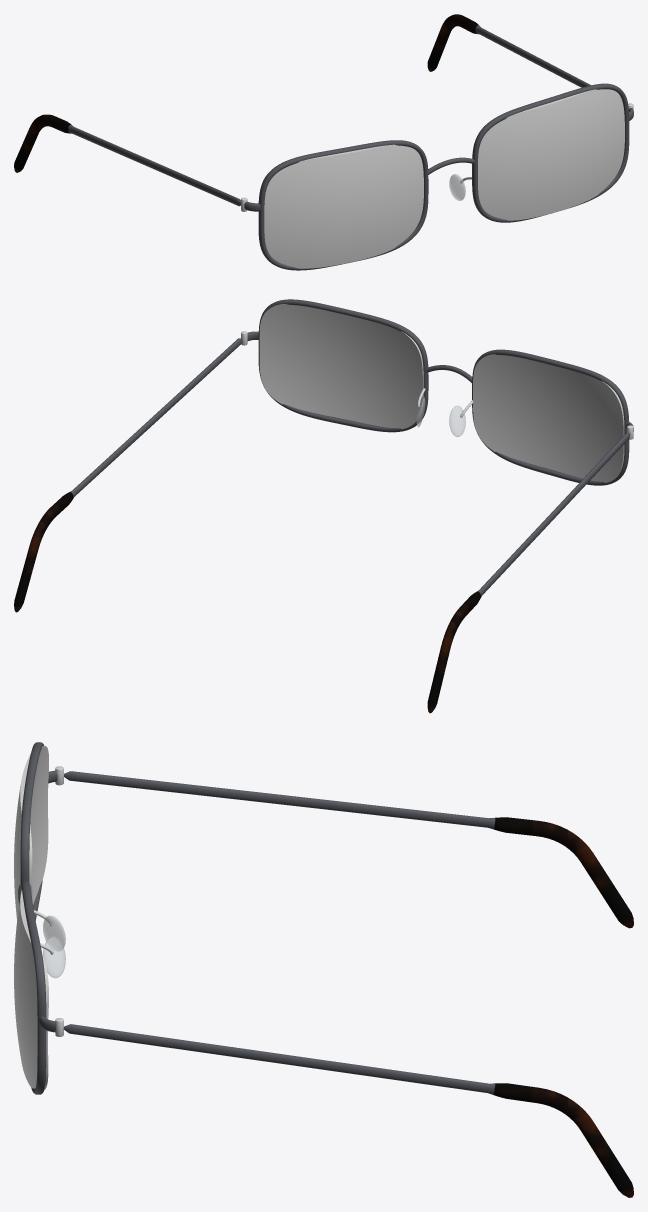
File: finn-l.glb
3 views of the same model, one above another, from view 1: azimuth 30°, elevation 25°; view 2: azimuth 150°, elevation 25°; view 3: azimuth 270°, elevation 25° (orthographic). The views are drawn at different scales.
Parts seen in each view (by area): view 1: Lens_R, Lens_L, Front, Temple_R, Temple_L; view 2: Lens_L, Lens_R, Front, Temple_L, Temple_R, NosePads; view 3: Temple_L, Temple_R, Front, Lens_L, Lens_R, NosePads.
Part boxes in pixels (bbox=[...]): Lens_R: bbox=[263, 144, 423, 268]; Lens_L: bbox=[478, 89, 624, 220]; Front: bbox=[241, 83, 633, 270]; Temple_R: bbox=[14, 114, 240, 206]; Temple_L: bbox=[427, 14, 590, 87]; Lens_L: bbox=[259, 304, 423, 429]; Lens_R: bbox=[473, 354, 624, 482]; Front: bbox=[241, 299, 633, 485]; Temple_L: bbox=[14, 338, 242, 612]; Temple_R: bbox=[427, 433, 630, 713]; NosePads: bbox=[416, 397, 465, 437]; Temple_L: bbox=[63, 1024, 633, 1197]; Temple_R: bbox=[64, 771, 633, 928]; Front: bbox=[18, 742, 63, 1094]; Lens_L: bbox=[14, 885, 48, 1090]; Lens_R: bbox=[14, 746, 48, 920]; NosePads: bbox=[43, 915, 65, 978].
Size of the model in its own units: 0.1544 by 0.0575 by 0.1474.
6 materials, 1 textured.
